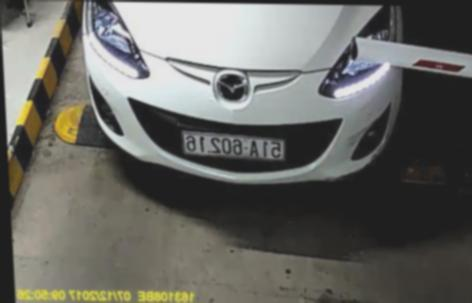License_Plate: (180, 132, 288, 162)
